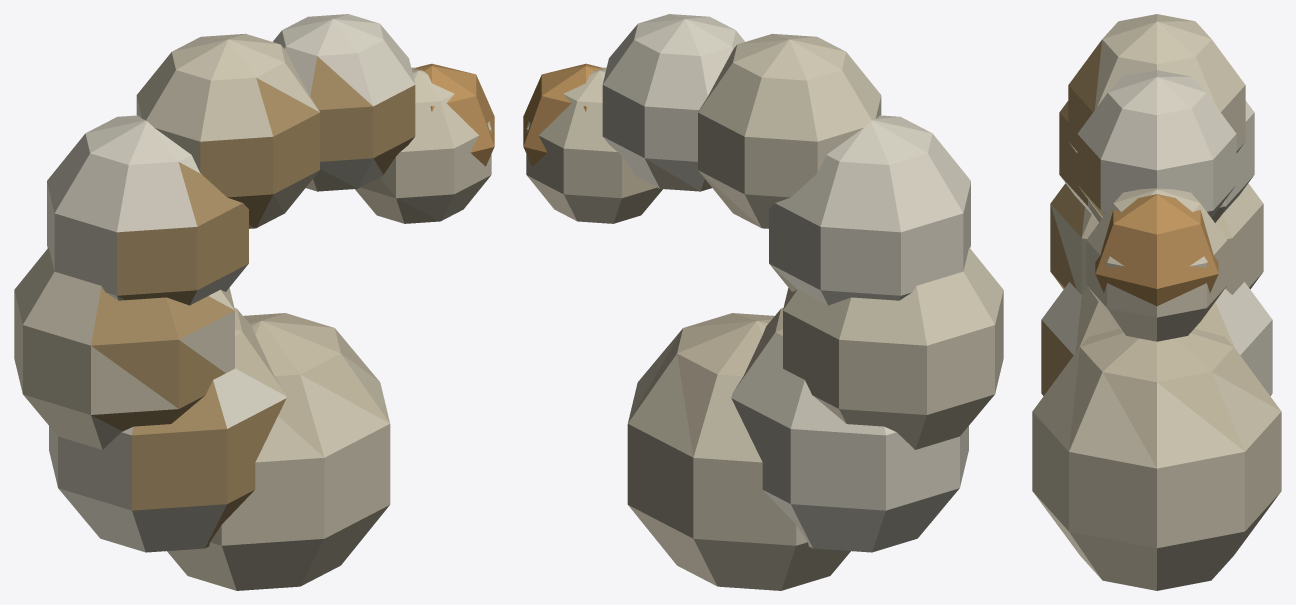
File: nest-larva.glb
The picture shows the model from 3 angles, left to right: view 1: azimuth 30°, elevation 25°; view 2: azimuth 150°, elevation 25°; view 3: azimuth 270°, elevation 25°; orthographic projection.
Bounding box in the file's own units: 2.26 × 2.53 × 1.05.
